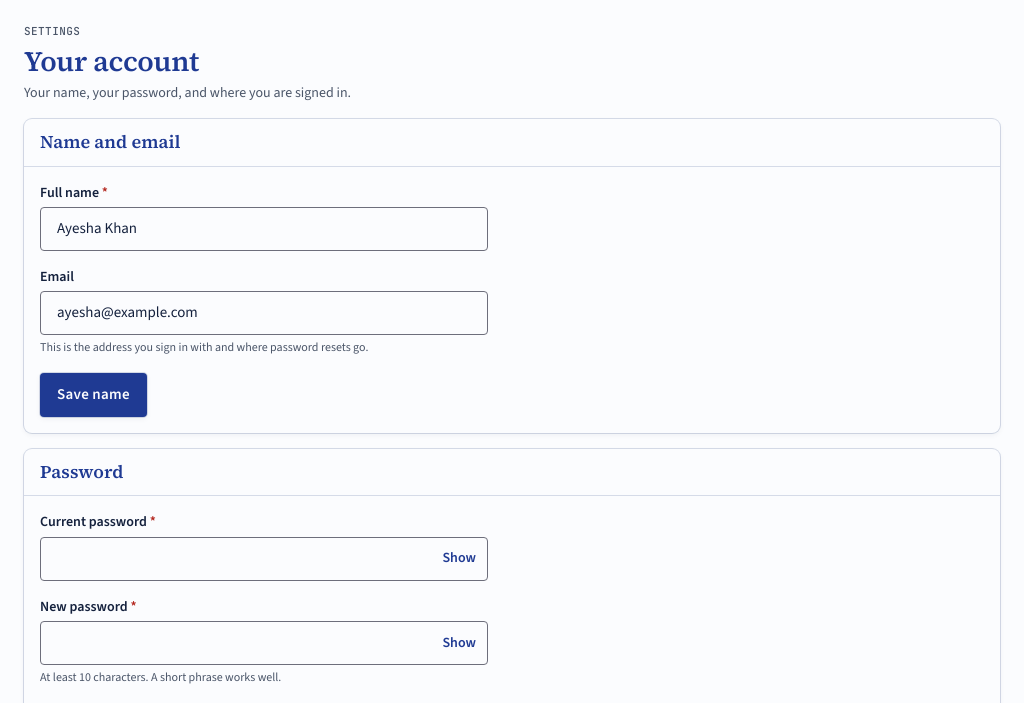
Test: AccountSettings › changes the password, clears the boxes and says how many devices were signed out
This screenshot has width=1024, height=703.
Type "old passphrase 1" into the password field labelled "Current password *" at (264, 558), box [40,536,488,580]
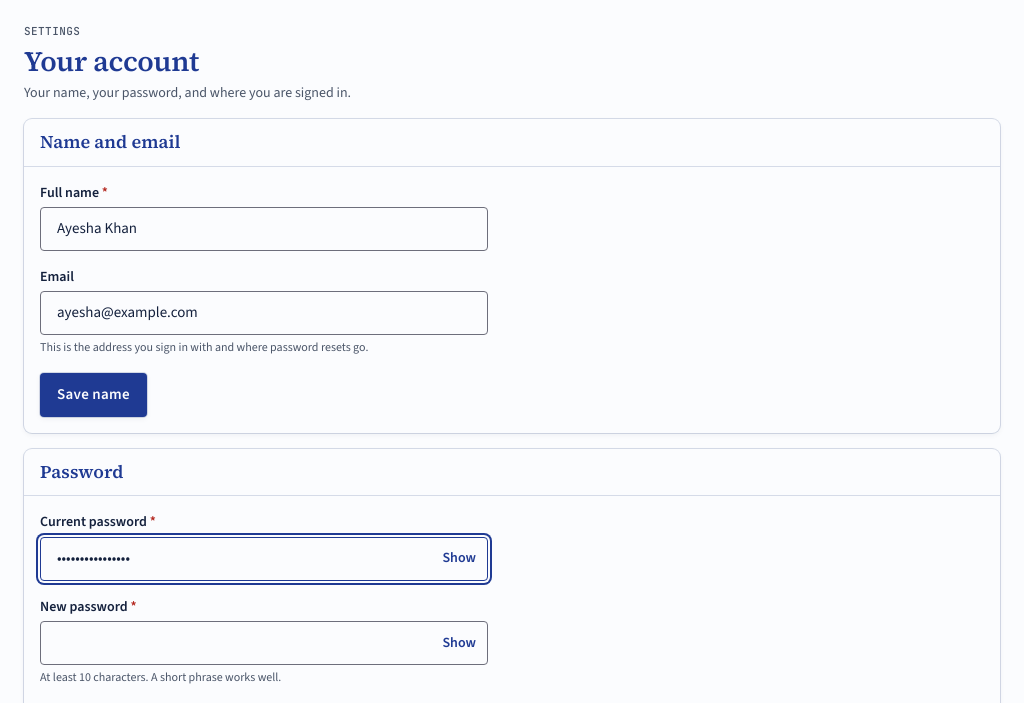
Type "new passphrase 2" into the password field labelled "New password *" at (264, 643), box [40,621,488,665]
(page scrolled)
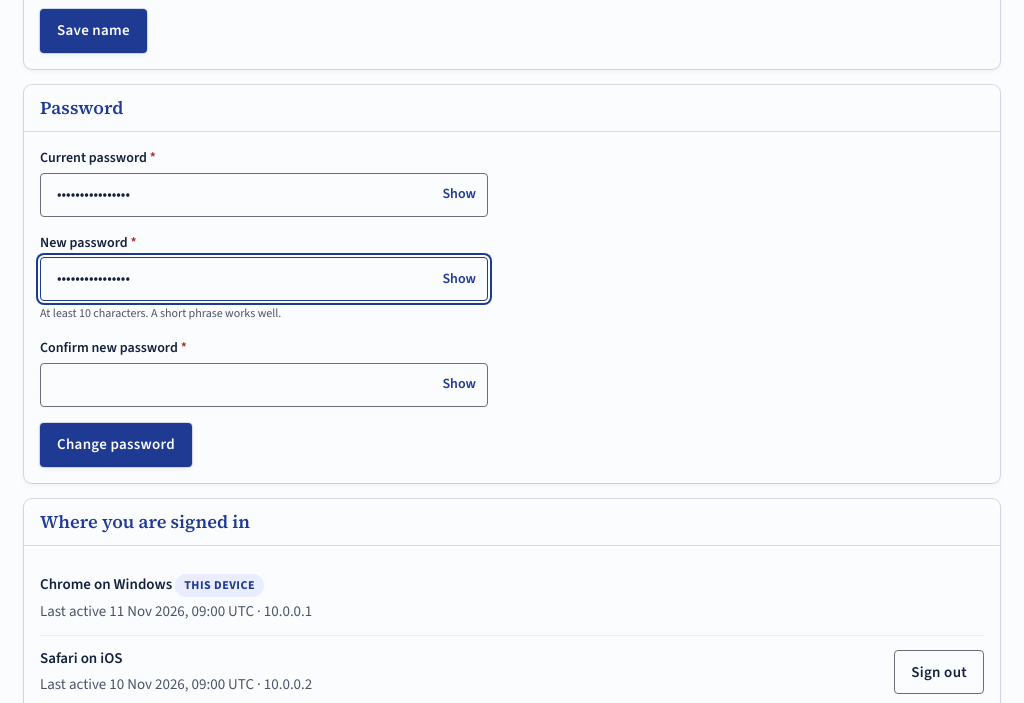
Type "new passphrase 2" into the password field labelled "Confirm new password *" at (264, 384), box [40,362,488,406]
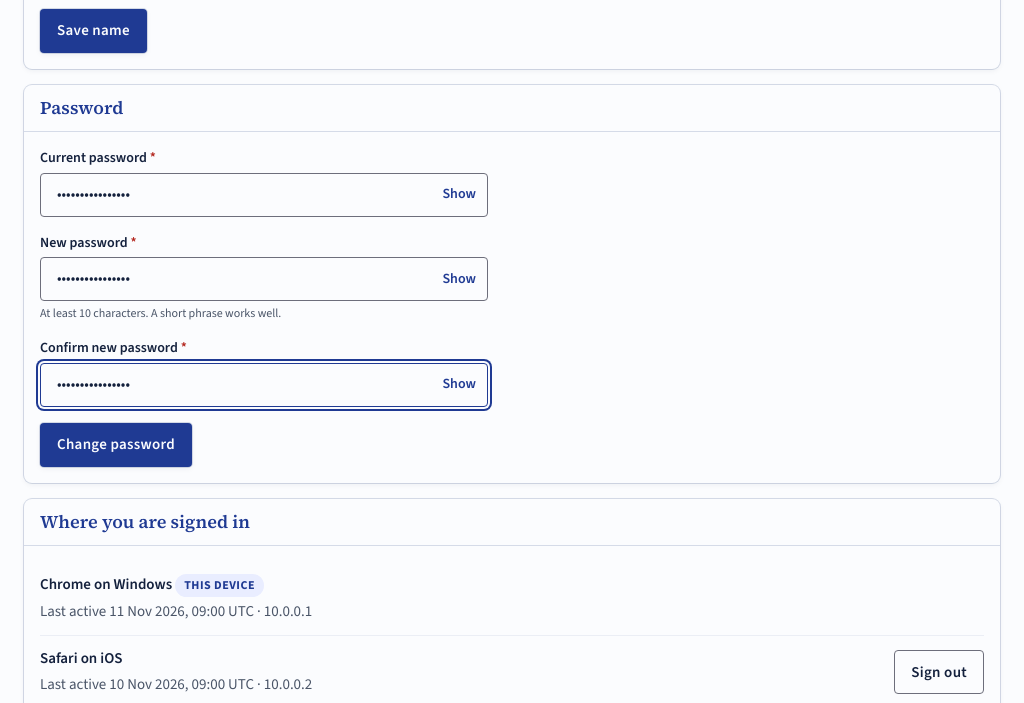
Click the button "Change password" at (116, 444), box [40,422,192,466]
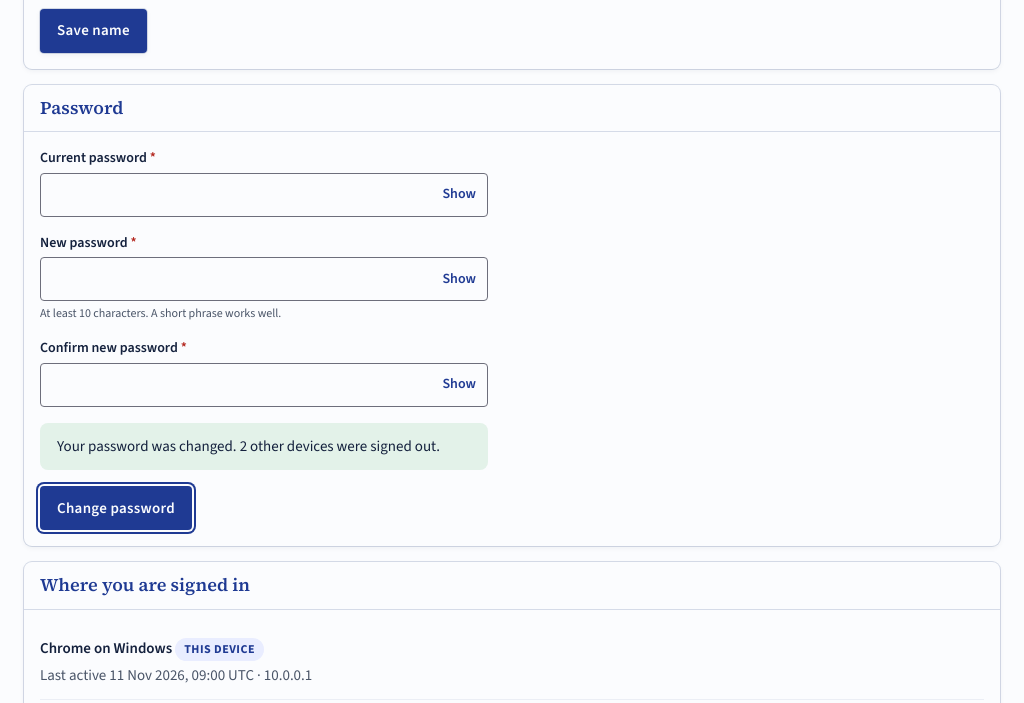
Check: the text "Your password was changed. 2 other devices were signed out." is shown, box [57,436,471,457]
Check: the password field labelled "Current password *" is empty, box [40,172,488,216]
